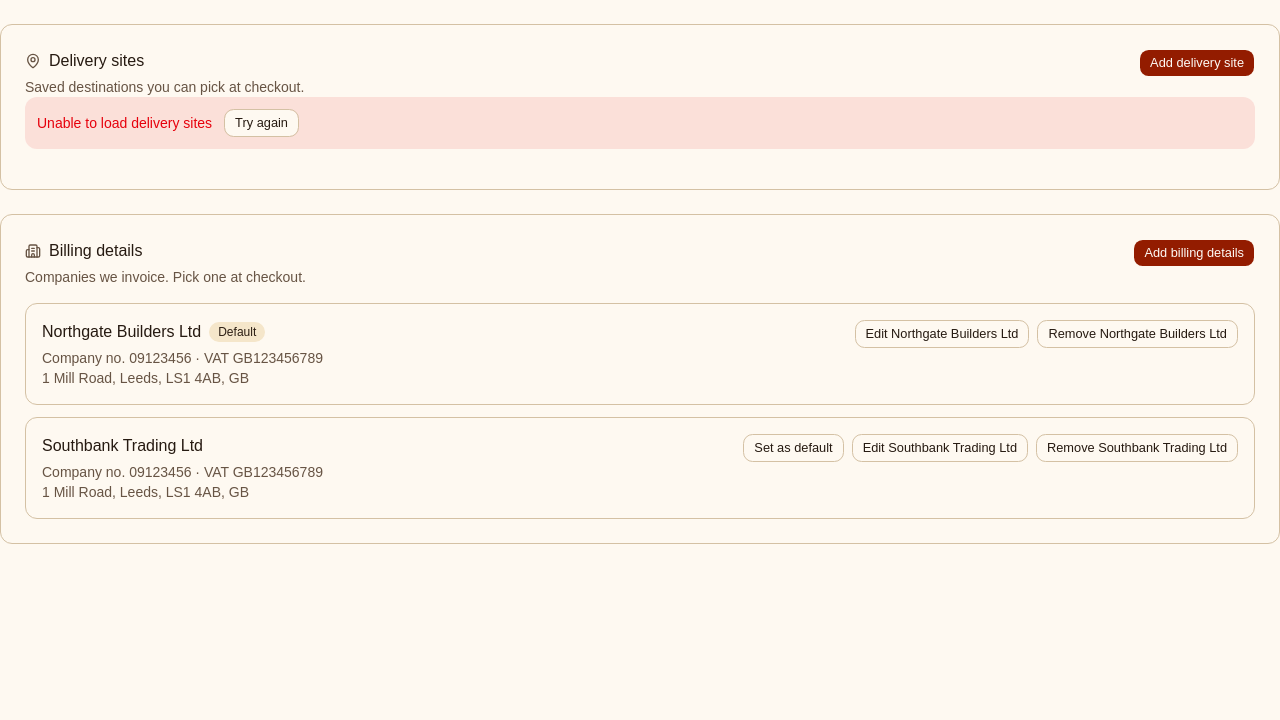
Test: DeliverySitesSection › shows a load failure with a working retry
The width and height of the screenshot is (1280, 720).
Check: the text "Unable to load delivery sites" is shown, box left=37, top=113, right=212, bottom=133
Step 1. Click the button "Try again" → click(262, 123), box left=224, top=109, right=299, bottom=137
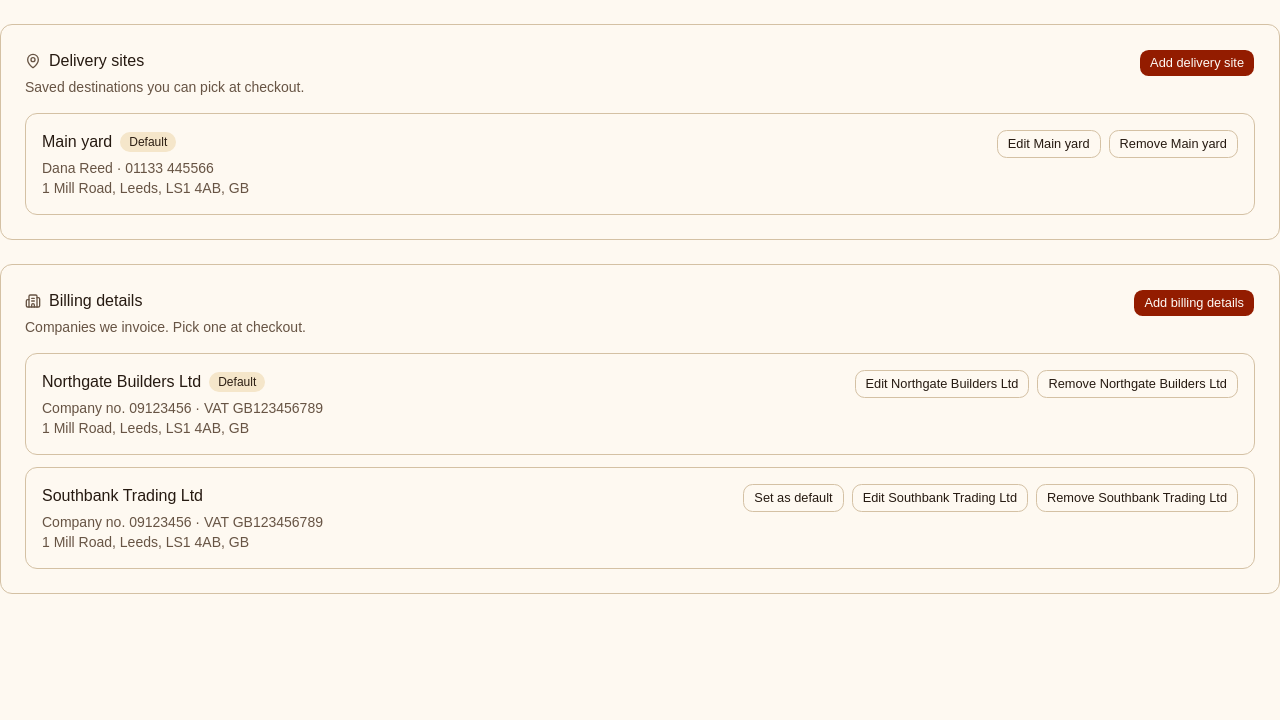
Check: the text "Main yard" is shown, box left=42, top=130, right=112, bottom=154
Check: the text "Unable to load delivery sites" is gone
